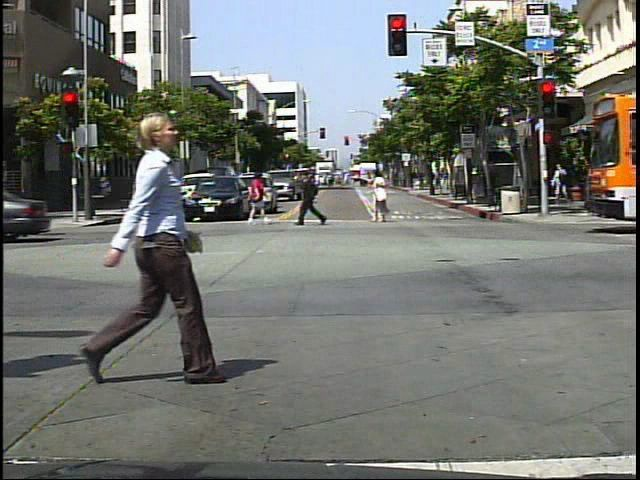person: (63, 92, 231, 403), (296, 159, 331, 231), (239, 168, 271, 227), (367, 166, 397, 227), (553, 160, 571, 205)
